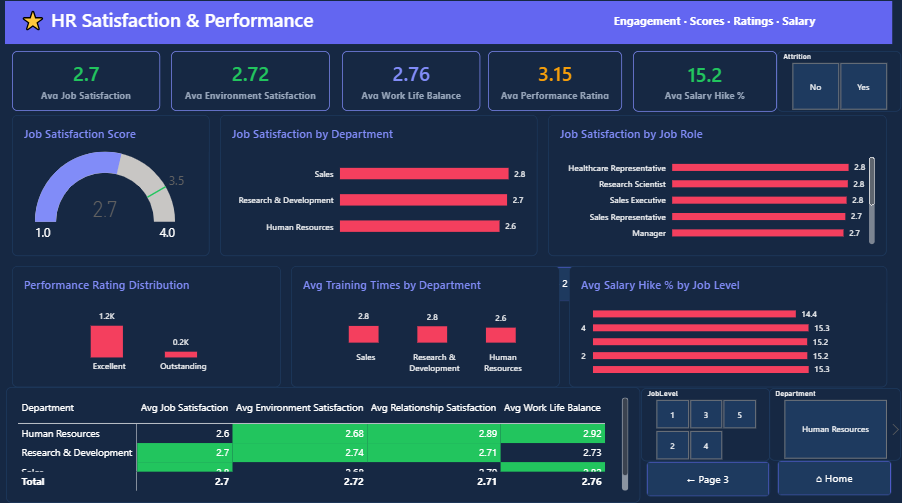

The dashboard page shown, as its layout file describes it:
{"tool":"powerbi","page":{"name":"HR Satisfaction","canvas":[1280,720],"ordinal":3},"visuals":[{"type":"shape","box":[10,8.8,1257.5,61.2],"z":0},{"type":"textbox","box":[31.2,17,489,42.5],"z":1000},{"type":"textbox","box":[873.1,25.5,386.9,25.5],"z":2000},{"type":"card","fields":{"Values":["HR.Avg Job Satisfaction"]},"box":[20,80,210,85],"z":3000},{"type":"card","fields":{"Values":["HR.Avg Environment Satisfaction"]},"box":[245.2,79.4,225.4,85],"z":4000},{"type":"card","fields":{"Values":["HR.Avg Performance Rating"]},"box":[695,80,190,85],"z":5000},{"type":"card","fields":{"Values":["HR.Avg Work Life Balance"]},"box":[487.6,79.4,196.2,85],"z":6000},{"type":"card","fields":{"Values":["HR.Avg Salary Hike %"]},"box":[900.4,79.9,204.1,85.6],"z":7000},{"type":"gauge","title":"Job Satisfaction Score","fields":{"Y":["HR.Avg Job Satisfaction"]},"box":[20,170,280,200.2],"z":8000},{"type":"clusteredBarChart","title":"Job Satisfaction by Department","fields":{"Category":["HR.Department"],"Y":["HR.Avg Job Satisfaction"]},"box":[315,170,450,200],"z":9000},{"type":"clusteredColumnChart","title":"Performance Rating Distribution","fields":{"Category":["HR.Performance Label"],"Y":["HR.HeadCount"]},"box":[19.7,384.4,380.8,171.6],"z":11000},{"type":"slicer","fields":{"Values":["HR.JobLevel"]},"box":[911.8,556.5,182.7,104.2],"z":13000},{"type":"slicer","fields":{"Values":["HR.Attrition"]},"box":[1104.5,79.9,175.5,85.6],"z":14000},{"type":"slicer","fields":{"Values":["HR.Department"]},"box":[1093.1,556.5,186.9,102.7],"z":15000},{"type":"actionButton","box":[919,660.7,175.5,51.4],"z":16000},{"type":"actionButton","box":[718.7,384.4,118,50.1],"z":17000},{"type":"clusteredBarChart","title":"Job Satisfaction by Job Role","fields":{"Category":["HR.JobRole"],"Y":["HR.Avg Job Satisfaction"]},"box":[780,170,480,200],"z":18001},{"type":"clusteredColumnChart","title":"Avg Training Times by Department","fields":{"Category":["HR.Department"],"Y":["HR.Avg Training Times"]},"box":[414.7,384.4,380.8,171.6],"z":18002},{"type":"clusteredBarChart","title":"Avg Salary Hike % by Job Level","fields":{"Category":["HR.JobLevel"],"Y":["HR.Avg Salary Hike %"]},"box":[809.8,384.4,450.5,171.6],"z":18003},{"type":"pivotTable","fields":{"Rows":["HR.Department"],"Values":["HR.Avg Job Satisfaction","HR.Avg Environment Satisfaction","HR.Avg Relationship Satisfaction","HR.Avg Work Life Balance"]},"box":[10.7,556,899.2,164.5],"z":18004},{"type":"actionButton","box":[1104.5,659.3,162.7,51.4],"z":18005}]}

Visuals, with their boxes in screenshot pixels (x1, y1, x2, y2), scaled from the page's 1280x720 canvas onto the 902x503 screenshot:
shape: bbox=[7, 6, 893, 49]
textbox: bbox=[22, 12, 367, 42]
textbox: bbox=[615, 18, 888, 36]
card - HR.Avg Job Satisfaction: bbox=[14, 56, 162, 115]
card - HR.Avg Environment Satisfaction: bbox=[173, 55, 332, 115]
card - HR.Avg Performance Rating: bbox=[490, 56, 624, 115]
card - HR.Avg Work Life Balance: bbox=[344, 55, 482, 115]
card - HR.Avg Salary Hike %: bbox=[635, 56, 778, 116]
"Job Satisfaction Score" gauge: bbox=[14, 119, 211, 259]
"Job Satisfaction by Department" clusteredBarChart: bbox=[222, 119, 539, 258]
"Performance Rating Distribution" clusteredColumnChart: bbox=[14, 269, 282, 388]
slicer - HR.JobLevel: bbox=[643, 389, 771, 462]
slicer - HR.Attrition: bbox=[778, 56, 901, 116]
slicer - HR.Department: bbox=[770, 389, 901, 461]
actionButton: bbox=[648, 462, 771, 497]
actionButton: bbox=[506, 269, 590, 304]
"Job Satisfaction by Job Role" clusteredBarChart: bbox=[550, 119, 888, 258]
"Avg Training Times by Department" clusteredColumnChart: bbox=[292, 269, 561, 388]
"Avg Salary Hike % by Job Level" clusteredBarChart: bbox=[571, 269, 888, 388]
pivotTable - HR.Department x HR.Avg Job Satisfaction: bbox=[8, 388, 641, 502]
actionButton: bbox=[778, 461, 893, 497]
